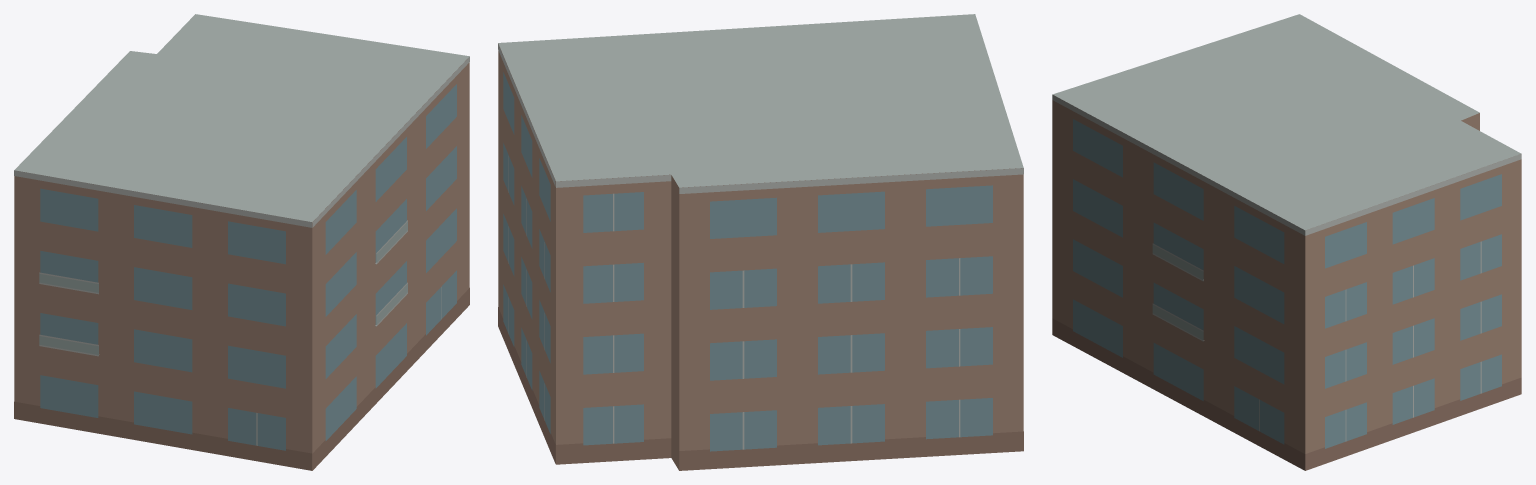
Rendered from survey-upis-32816429.glb.
The picture shows the model from 3 angles, left to right: view 1: azimuth 30°, elevation 25°; view 2: azimuth 150°, elevation 25°; view 3: azimuth 270°, elevation 25°; orthographic projection. The views are drawn at different scales.
Visible parts, largest first — view 1: survey-upis-32816429.tmp; view 2: survey-upis-32816429.tmp; view 3: survey-upis-32816429.tmp.
Boxes of the visible parts, x1,y1,x2,y2 form: survey-upis-32816429.tmp: (14, 14, 469, 470); survey-upis-32816429.tmp: (498, 14, 1023, 470); survey-upis-32816429.tmp: (1052, 14, 1521, 470).
Size of the model in its own units: 20.46 by 10.6 by 18.75.
